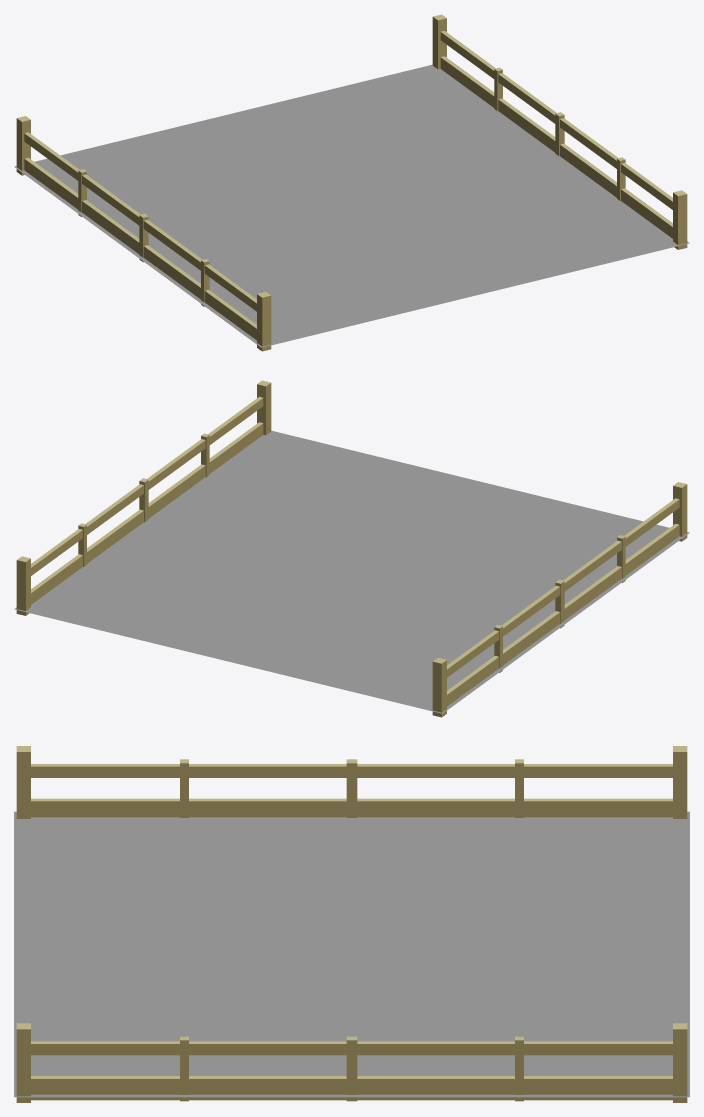
The model's file is tile_for_home_1x1_017.glb.
The picture shows the model from 3 angles, top to bottom: view 1: azimuth 30°, elevation 25°; view 2: azimuth 150°, elevation 25°; view 3: azimuth 270°, elevation 25°; orthographic projection. The views are drawn at different scales.
Parts seen in each view (by area): view 1: tile_for_home_1x1_017; view 2: tile_for_home_1x1_017; view 3: tile_for_home_1x1_017.
Boxes of the visible parts, left/top/right/bottom form: tile_for_home_1x1_017: left=14, top=14, right=689, bottom=351; tile_for_home_1x1_017: left=14, top=380, right=689, bottom=717; tile_for_home_1x1_017: left=14, top=746, right=689, bottom=1102.
Bounding box in the file's own units: 8 × 0.959 × 8.
1 material, 1 textured.
